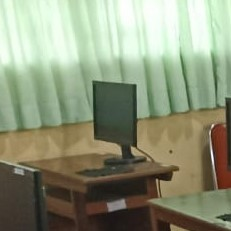monitor: (92, 80, 146, 165)
